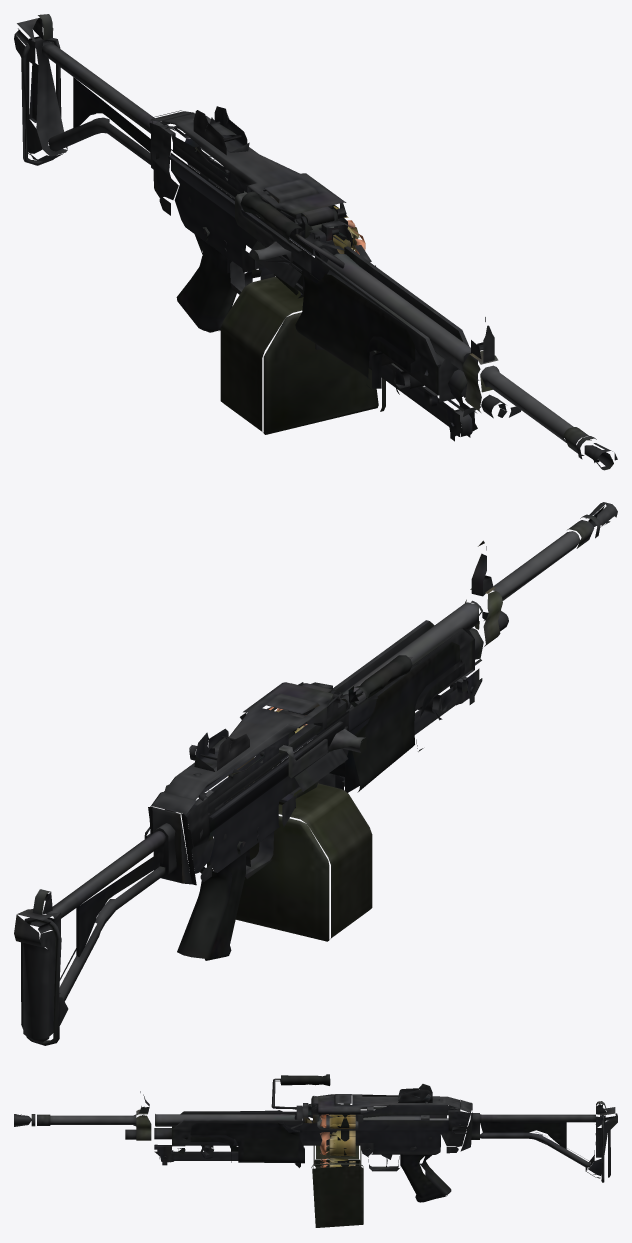
Rendered from g_negev_lo.glb.
3 renders of one model, top to bottom at view 1: azimuth 30°, elevation 25°; view 2: azimuth 150°, elevation 25°; view 3: azimuth 270°, elevation 25°, orthographic. The views are drawn at different scales.
Visible parts, largest first — view 1: merged; view 2: merged; view 3: merged.
Part boxes in pixels (x1,y1,x2,y2): merged: (14,14,617,470); merged: (14,502,617,1045); merged: (14,1074,617,1227).
Bounding box in the file's own units: 0.1303 × 0.2336 × 1.01.
Materials: 1 (1 with a texture image).
